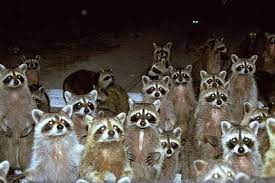raccoon: (29, 108, 82, 182), (0, 65, 33, 170), (82, 113, 128, 183), (127, 101, 162, 183), (198, 85, 232, 159), (220, 122, 265, 174), (227, 53, 258, 118), (140, 74, 176, 129), (57, 68, 118, 95), (172, 68, 196, 135), (62, 90, 97, 133), (157, 128, 182, 183), (199, 39, 225, 73), (150, 44, 174, 80), (4, 51, 44, 72)
